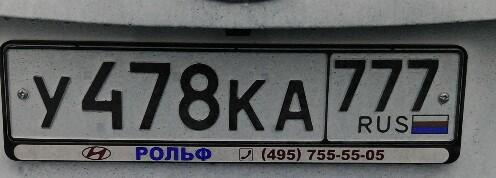license-plateSW: (8, 47, 478, 143)
